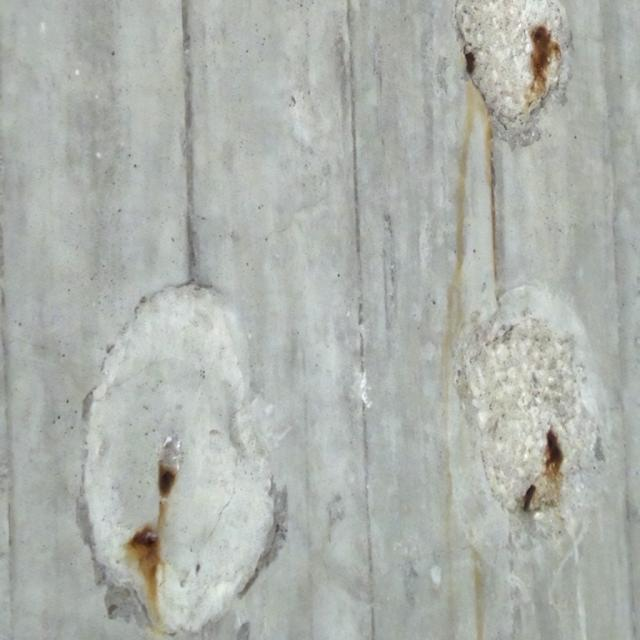D10: (458, 322, 602, 553), (454, 2, 568, 149)
